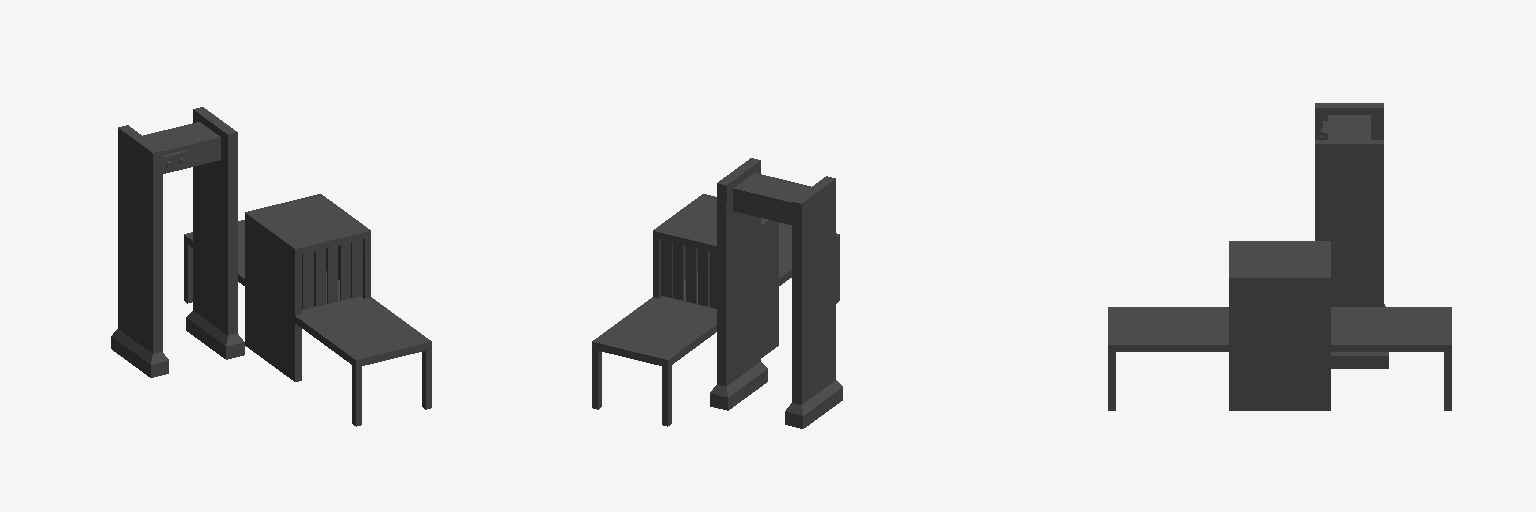
Rendered from detector.obj.
The picture shows the model from 3 angles: view 1: azimuth 30°, elevation 25°; view 2: azimuth 150°, elevation 25°; view 3: azimuth 270°, elevation 25°; orthographic projection.
Parts seen in each view (by area): view 1: Detector; view 2: Detector; view 3: Detector.
Part boxes in pixels (bbox=[...]): Detector: bbox=[111, 107, 431, 426]; Detector: bbox=[592, 158, 842, 428]; Detector: bbox=[1108, 103, 1451, 410].
Size of the model in its own units: 0.7092 by 0.8359 by 1.17.